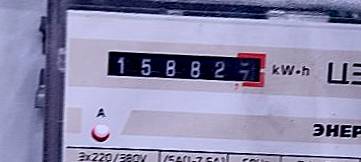1: (113, 54, 126, 73)
2: (212, 58, 225, 78)
5: (138, 55, 151, 76)
7: (237, 67, 249, 82)
8: (163, 56, 176, 78), (188, 58, 201, 79)
screen: (97, 37, 275, 94)
